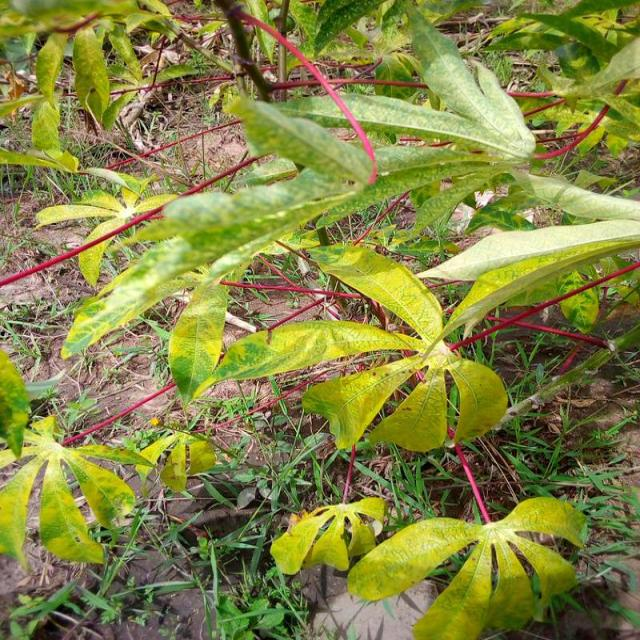cassava leaf: (346, 495, 588, 638)
